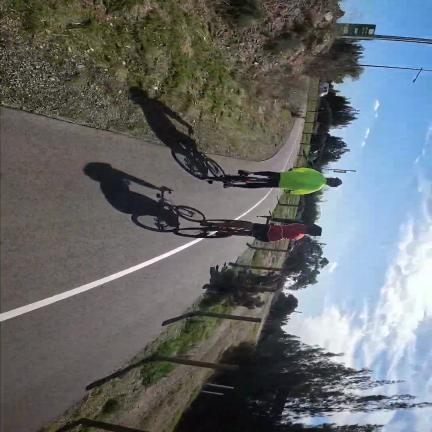Bike_Lane: (0, 108, 275, 432), (214, 137, 296, 172)
